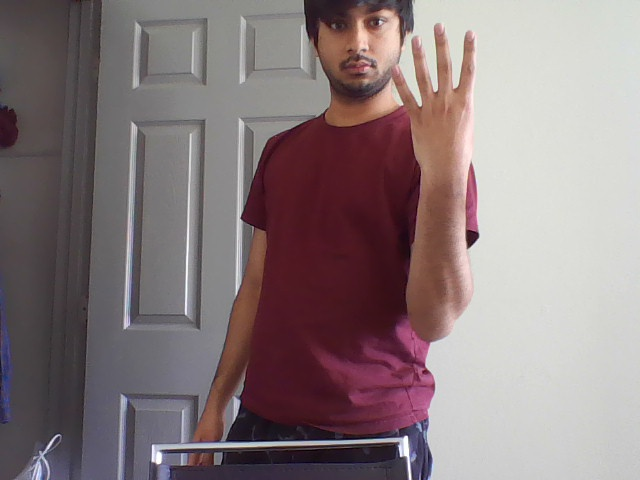four: (387, 19, 480, 116)
